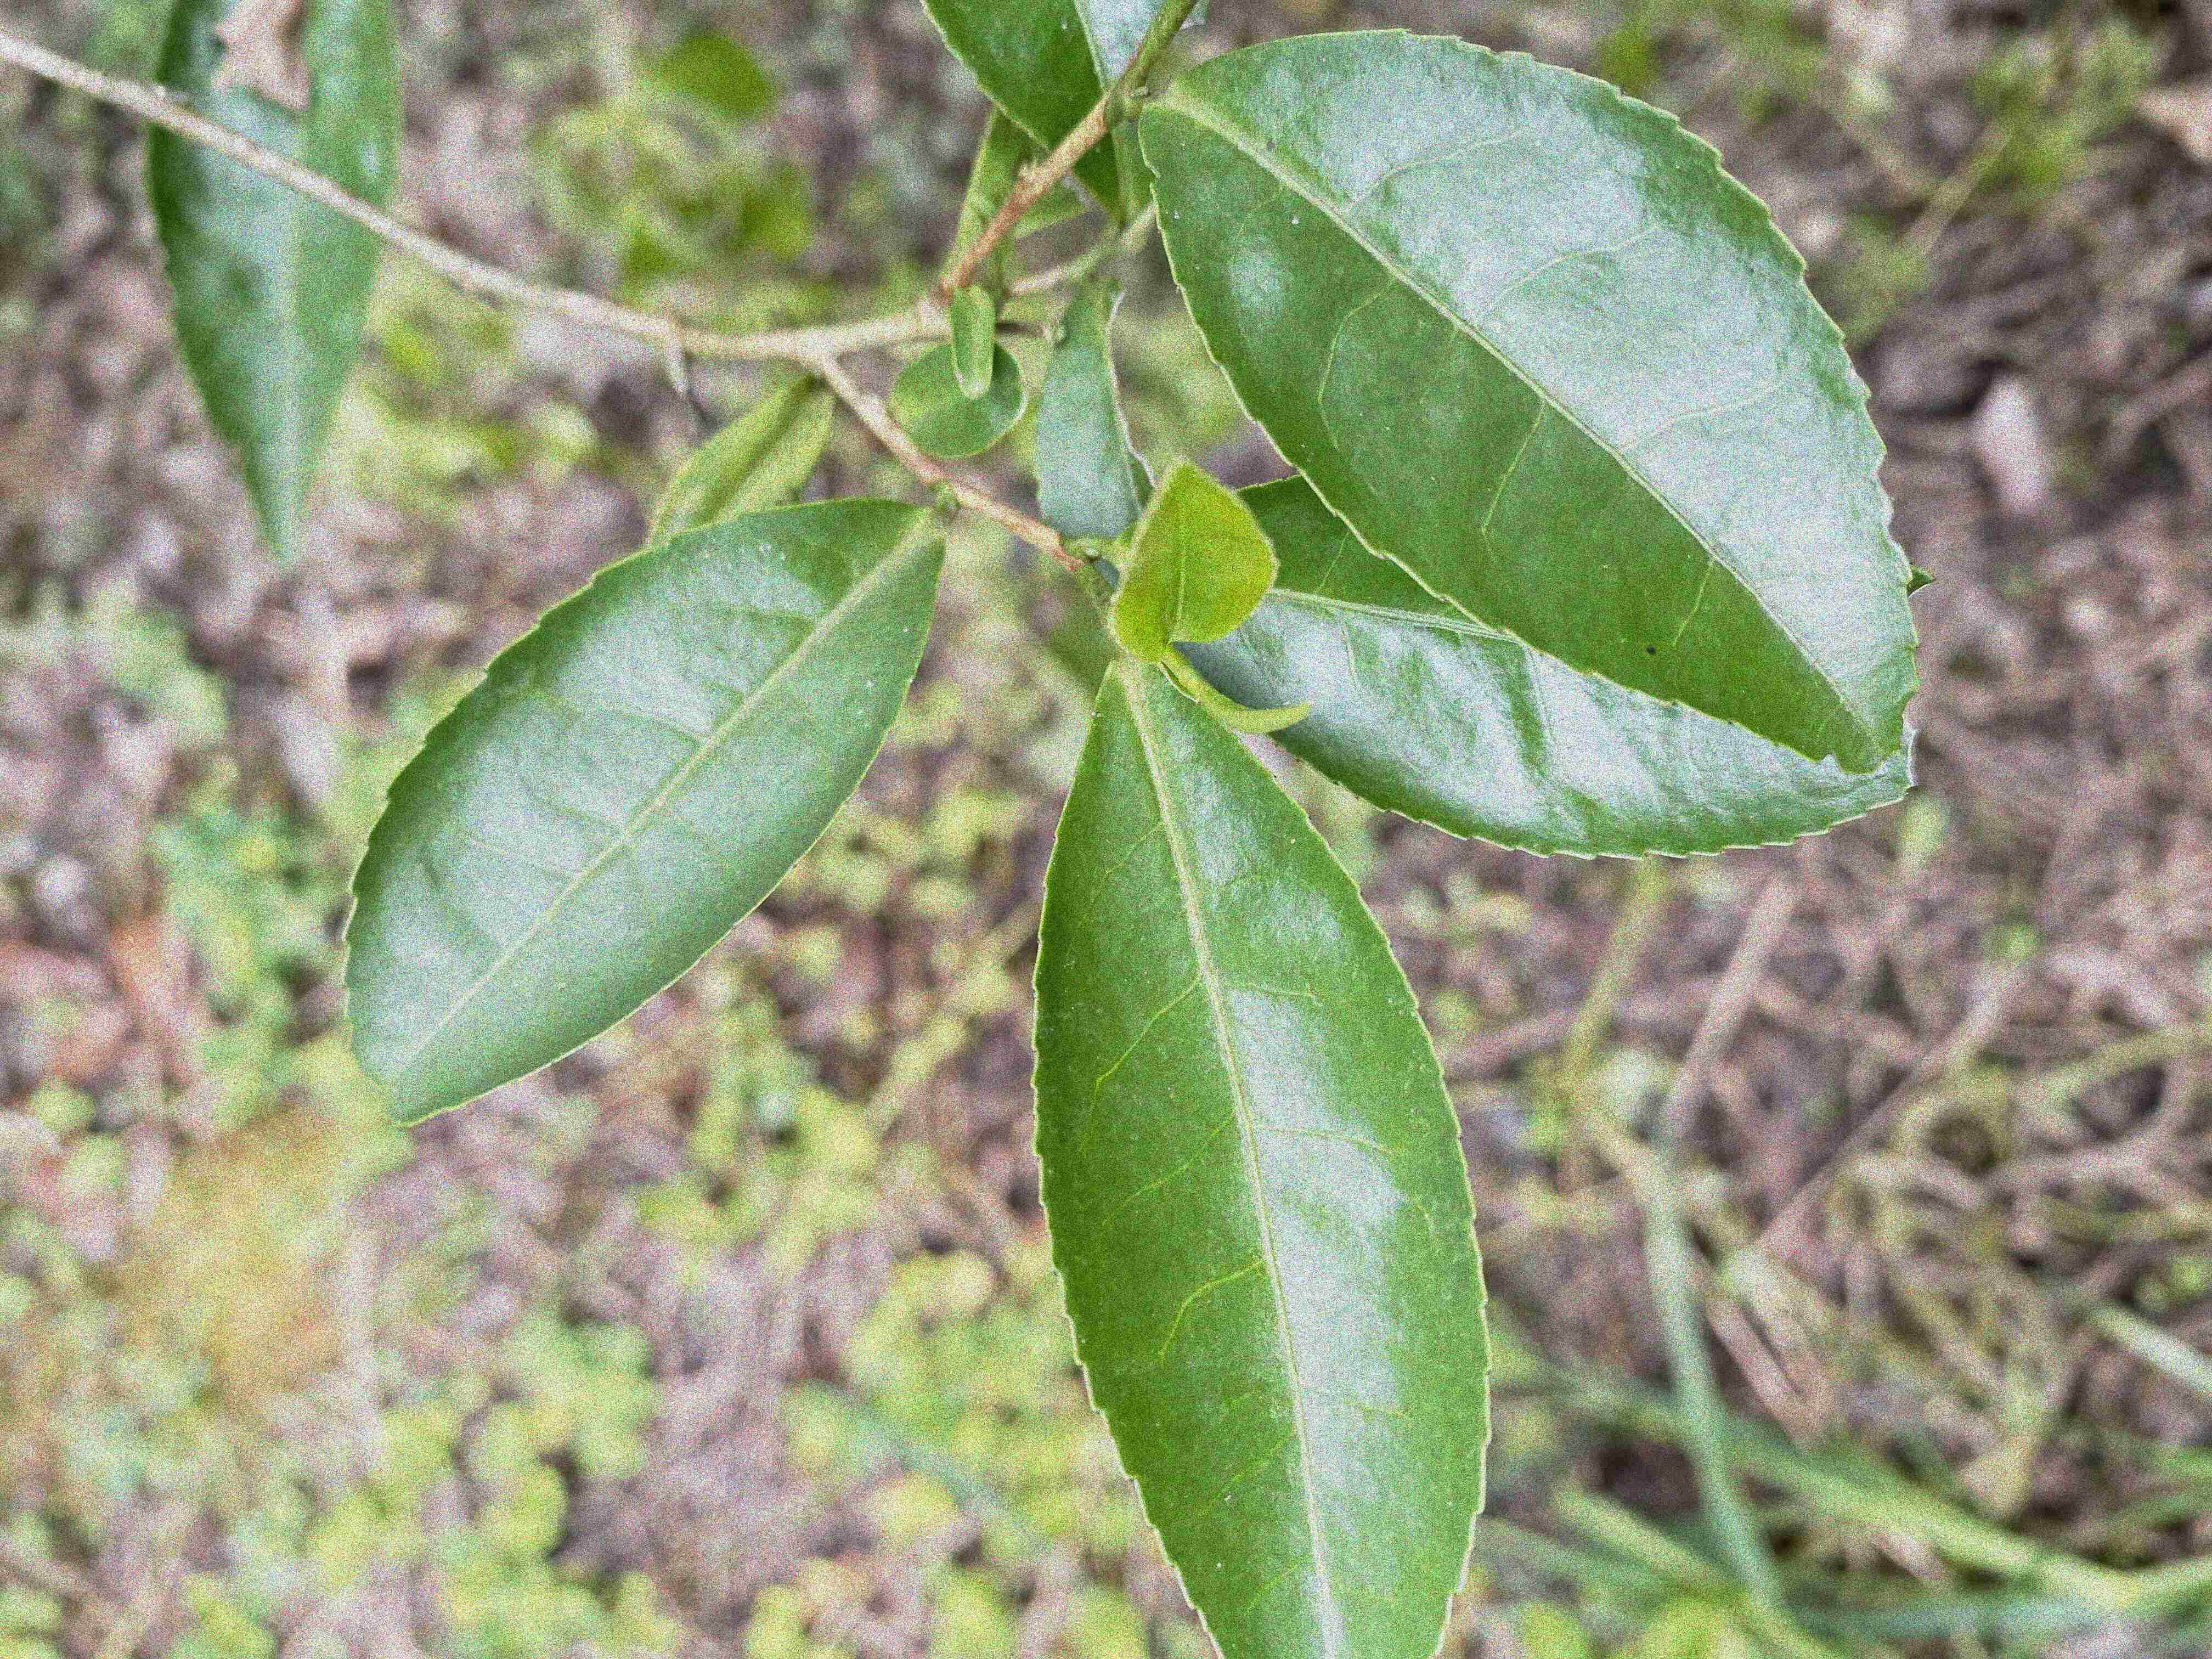healthy: (1137, 24, 1918, 775), (1031, 669, 1494, 1657), (338, 493, 948, 1127), (1106, 450, 1275, 666)
